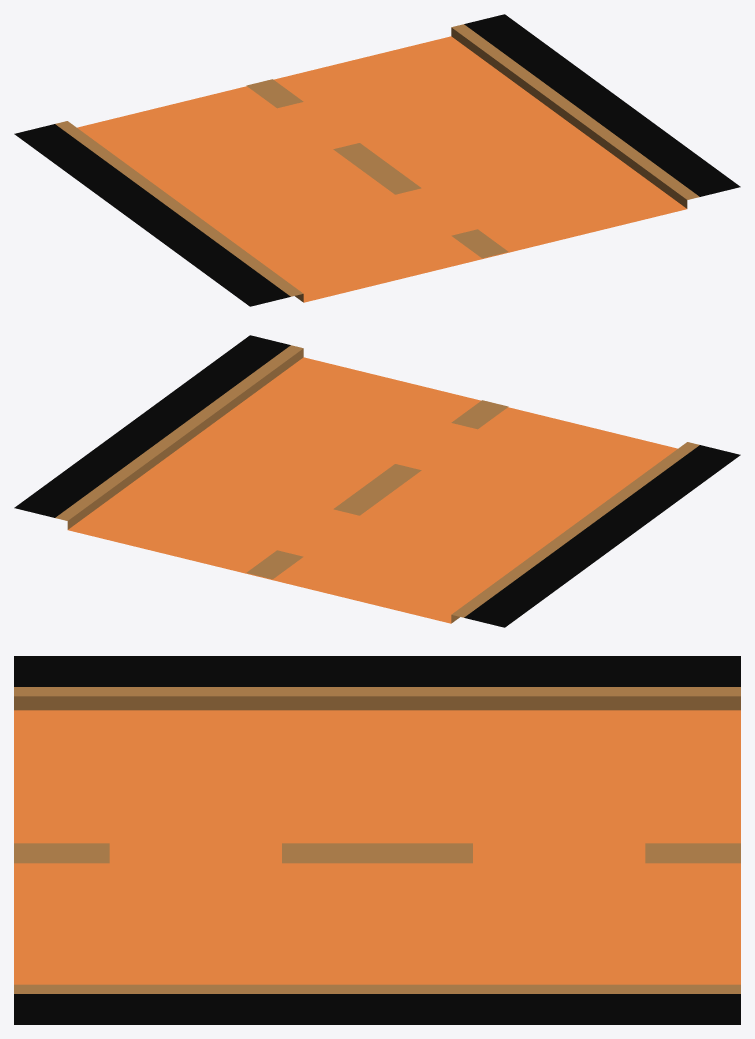
File: Map-Road-Rine.fbx
3 views of the same model, one above another, from view 1: azimuth 30°, elevation 25°; view 2: azimuth 150°, elevation 25°; view 3: azimuth 270°, elevation 25° (orthographic). The views are drawn at different scales.
Parts seen in each view (by area): view 1: Map-Road-Rine; view 2: Map-Road-Rine; view 3: Map-Road-Rine.
Part boxes in pixels (x1=…): Map-Road-Rine: x1=14, y1=14, x2=740, y2=306; Map-Road-Rine: x1=14, y1=335, x2=740, y2=627; Map-Road-Rine: x1=14, y1=656, x2=740, y2=1024.
Bounding box in the file's own units: 2.4 × 0.0423 × 2.
